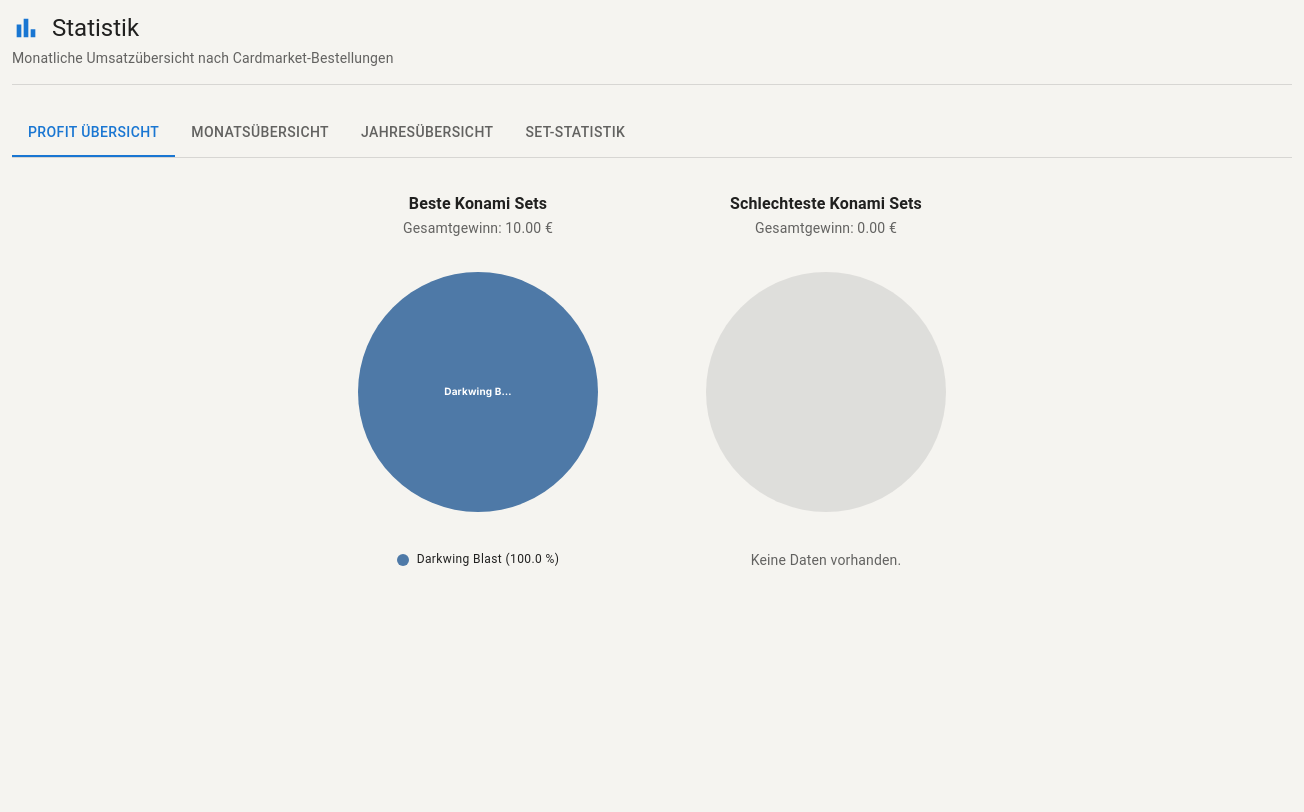
Statistik › Set-Statistik tab filter narrows the set list
Click the tab "Set-Statistik" at (575, 133), box [510,109,641,157]
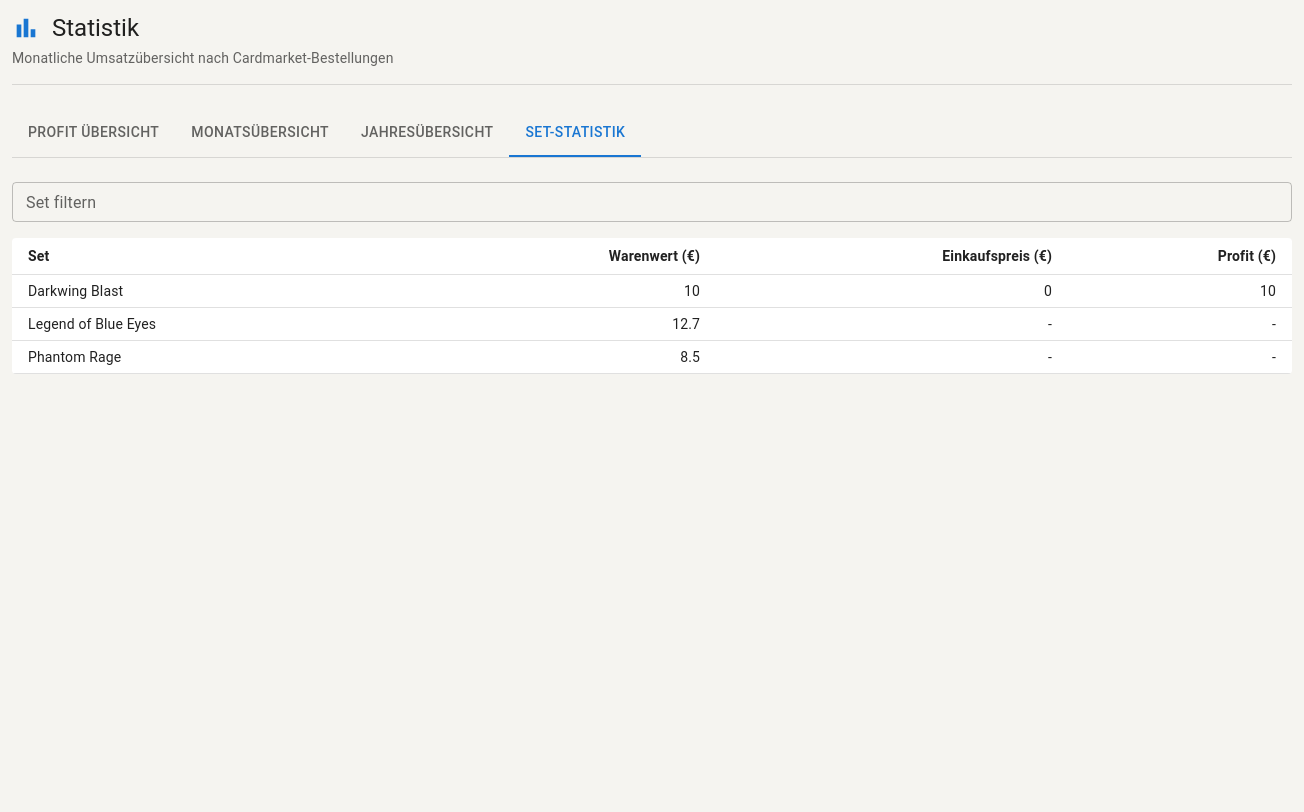
Type "Darkwing" into the field labelled "Set filtern" at (652, 202), box [12,182,1292,222]
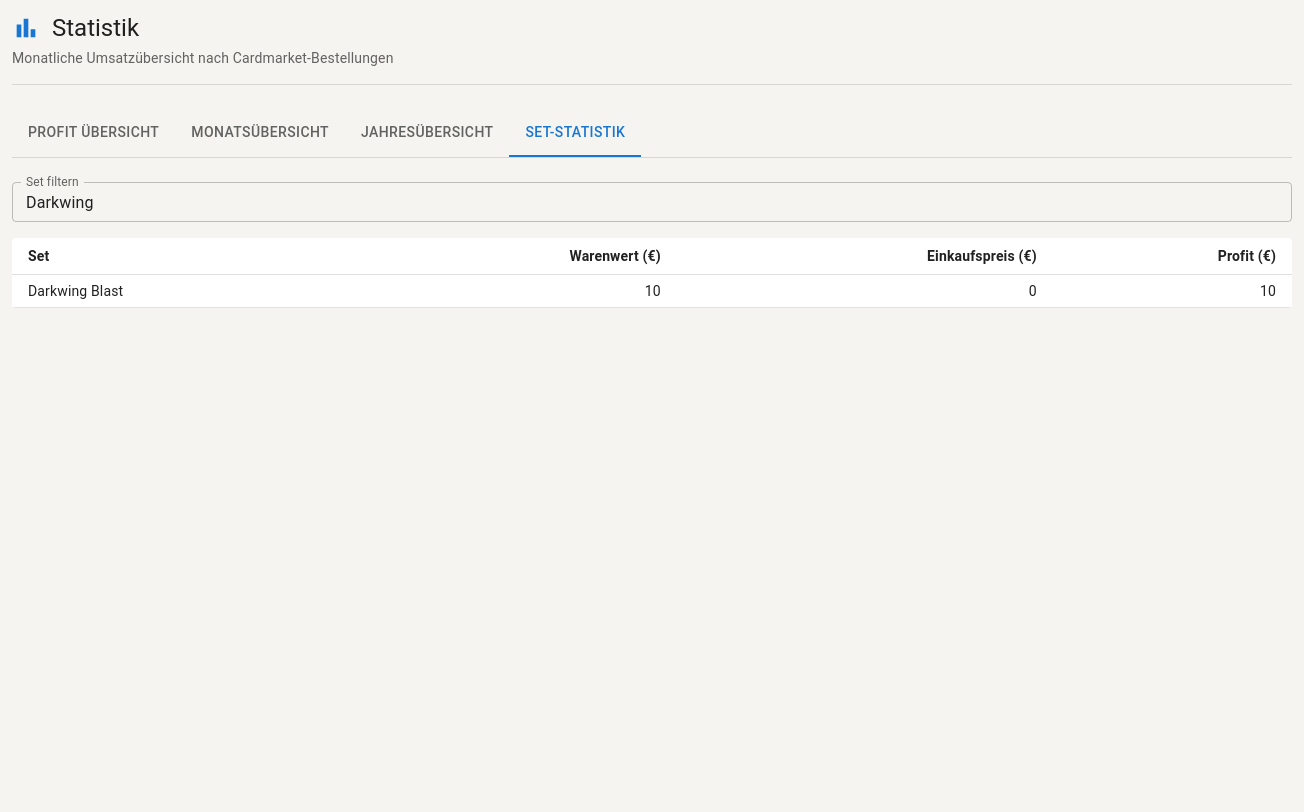
Expected: the text "Darkwing Blast" is shown, [12,274,350,308]
Expected: the text "Phantom Rage" is gone
Expected: the text "Legend of Blue Eyes" is gone
